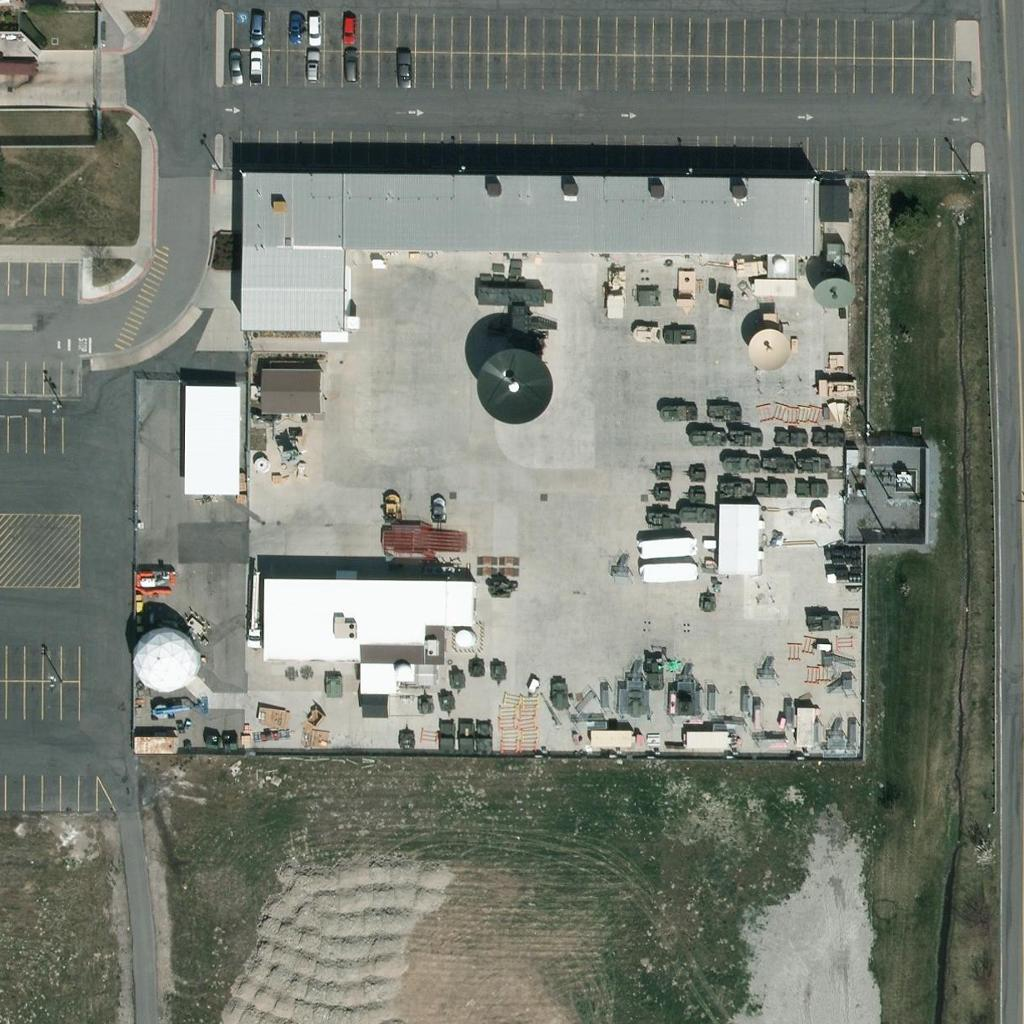car: (238, 9, 272, 43), (278, 9, 312, 43), (330, 11, 364, 45), (296, 12, 330, 46), (218, 46, 252, 80), (237, 46, 271, 80), (332, 47, 366, 81), (293, 48, 327, 82), (386, 52, 420, 86), (449, 713, 483, 747), (466, 713, 500, 747), (427, 715, 461, 749)
